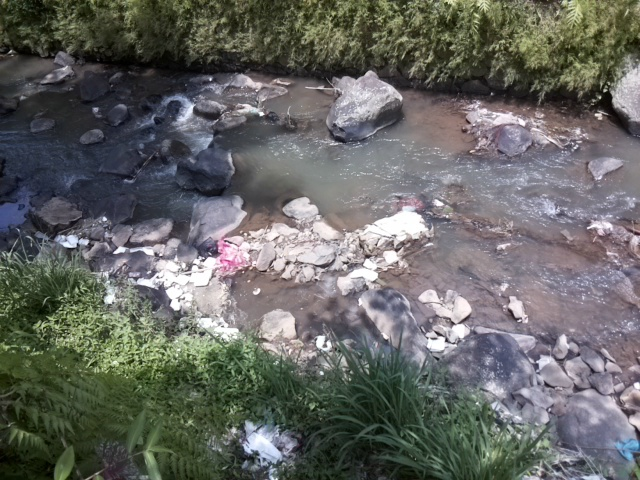Sampah_Plastik: (215, 238, 253, 274), (194, 235, 222, 257)
Sampah_Styrofoam: (155, 260, 194, 307), (184, 262, 216, 286)
